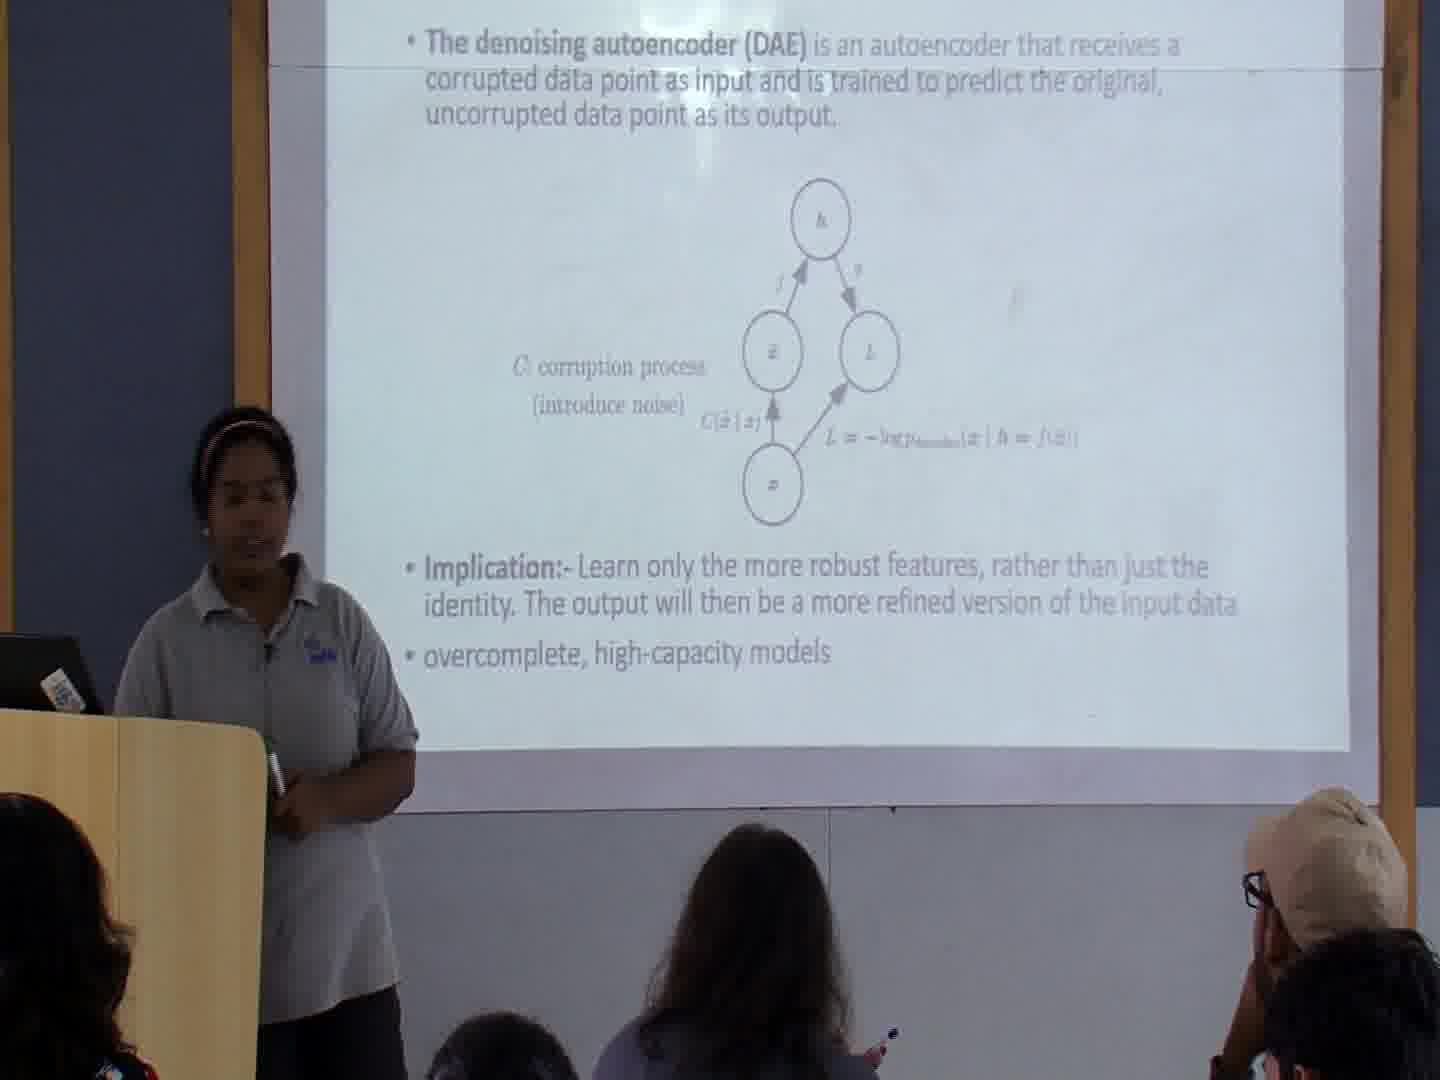slide: (325, 1, 1350, 751)
